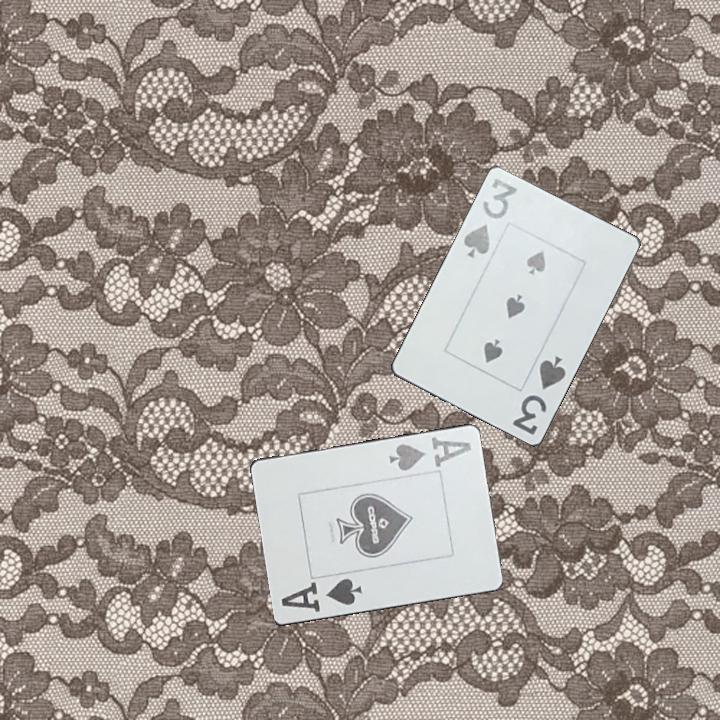3s: (460, 174, 520, 261), (509, 352, 569, 438)
As: (386, 433, 474, 474), (277, 575, 366, 615)
